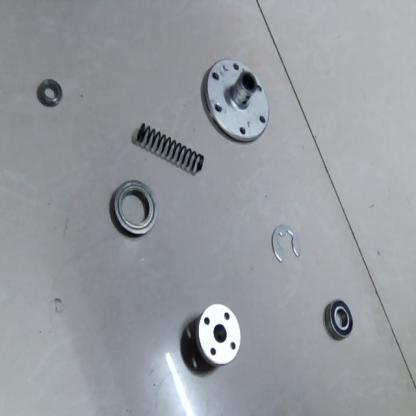FOD: (202, 48, 271, 140), (134, 118, 203, 174), (190, 301, 240, 370), (107, 180, 158, 238), (266, 218, 305, 265), (325, 295, 356, 346), (34, 75, 62, 107)
